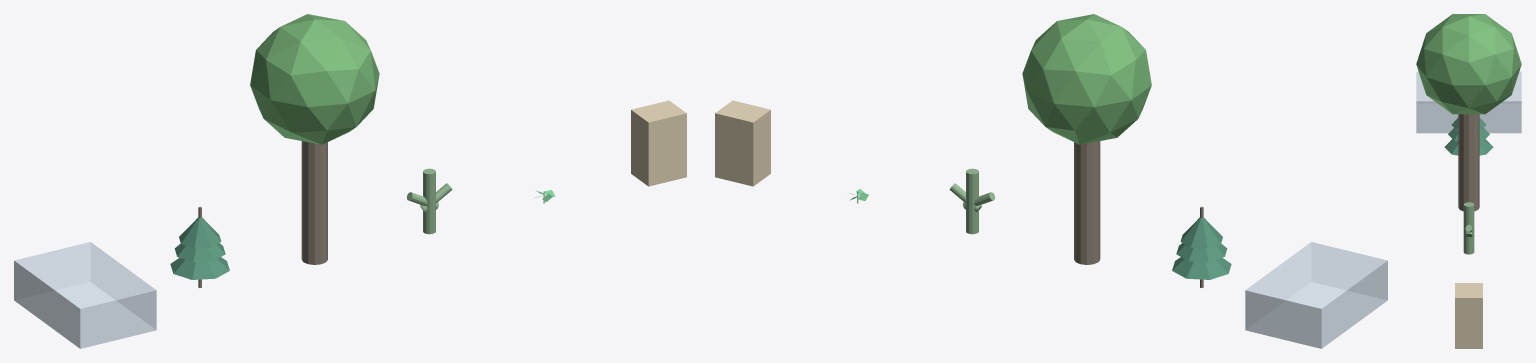
File: biome_assets.glb
The picture shows the model from 3 angles, left to right: view 1: azimuth 30°, elevation 25°; view 2: azimuth 150°, elevation 25°; view 3: azimuth 270°, elevation 25°; orthographic projection. The views are drawn at different scales.
Parts seen in each view (by area): view 1: GiantFoliage, Glacier, Sandstone, GiantTrunk, PineFoliage_3, PineFoliage_1, CactusBody, PineFoliage_2; view 2: GiantFoliage, Glacier, Sandstone, GiantTrunk, PineFoliage_3, PineFoliage_1, CactusBody, PineFoliage_2; view 3: GiantFoliage, Glacier, GiantTrunk, Sandstone, CactusBody, PineFoliage_3, PineFoliage_2, PineFoliage_1.
Boxes of the visible parts, x1,y1,x2,y2 form: GiantFoliage: (250, 14, 379, 144); Glacier: (14, 242, 156, 348); Sandstone: (631, 100, 686, 186); GiantTrunk: (301, 141, 327, 264); PineFoliage_3: (170, 257, 229, 279); PineFoliage_1: (179, 217, 221, 248); CactusBody: (423, 168, 435, 234); PineFoliage_2: (174, 243, 225, 262); GiantFoliage: (1022, 14, 1151, 144); Glacier: (1245, 242, 1387, 348); Sandstone: (715, 100, 770, 186); GiantTrunk: (1074, 141, 1100, 264); PineFoliage_3: (1172, 257, 1231, 279); PineFoliage_1: (1180, 217, 1222, 248); CactusBody: (966, 168, 978, 234); PineFoliage_2: (1176, 243, 1227, 262); GiantFoliage: (1416, 14, 1521, 114); Glacier: (1416, 71, 1521, 133); GiantTrunk: (1458, 114, 1479, 211); Sandstone: (1455, 283, 1482, 348); CactusBody: (1463, 202, 1474, 254); PineFoliage_3: (1444, 139, 1493, 155); PineFoliage_2: (1448, 128, 1489, 141); PineFoliage_1: (1451, 117, 1486, 130).
Bounding box in the file's own units: 165 × 60 × 30.
